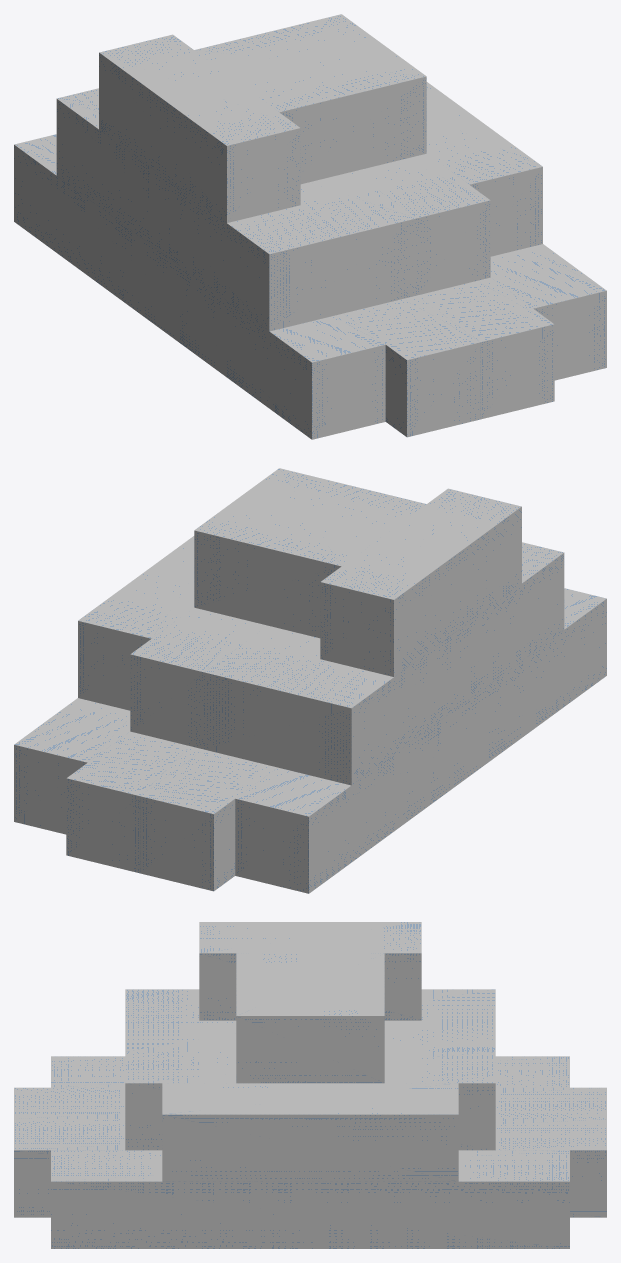
The model's file is stone-02.fbx.
3 views of the same model, one above another, from view 1: azimuth 30°, elevation 25°; view 2: azimuth 150°, elevation 25°; view 3: azimuth 270°, elevation 25° (orthographic). The views are drawn at different scales.
Visible parts, largest first — view 1: generated; view 2: generated; view 3: generated.
Boxes of the visible parts, box(x1,y1,x2,y2) form: generated: box(14, 14, 606, 439); generated: box(14, 468, 606, 893); generated: box(14, 922, 606, 1248).
Bounding box in the file's own units: 40 × 30 × 80.
1 material, 1 textured.
